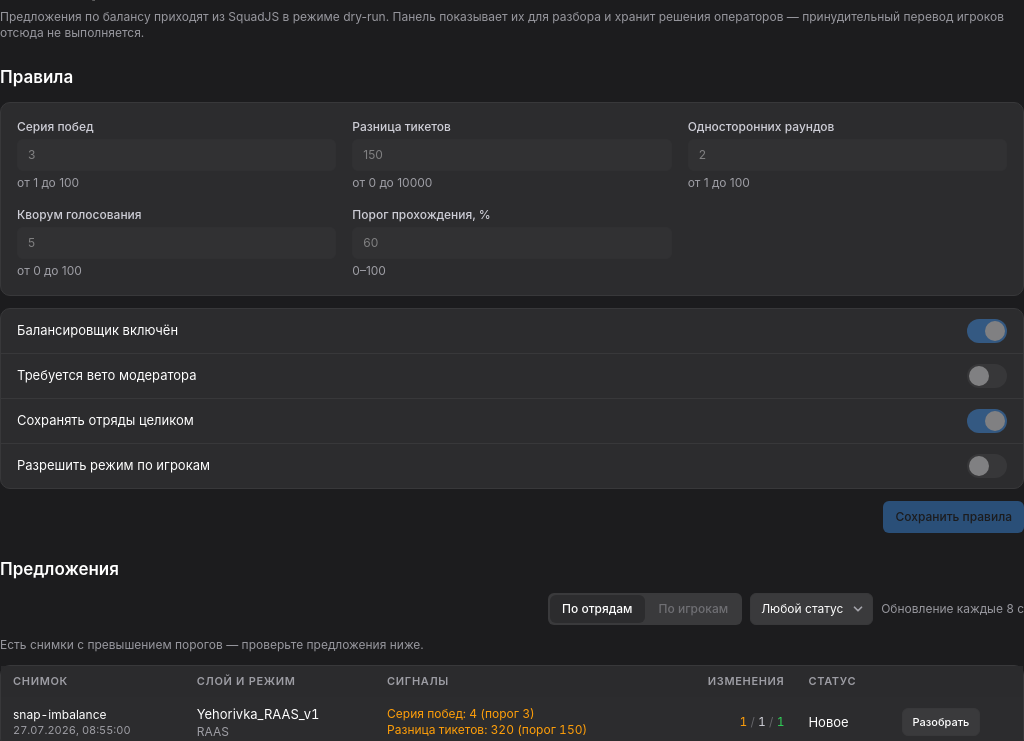
Test case: BalancerBrowser decisions › locks every write control for a viewer without balancer:edit
The image size is (1024, 741).
Expected: the text "snap-imbalance" is shown, [13, 707, 106, 722]
Expected: the button "Сохранить правила" is disabled, [883, 500, 1023, 532]
Click the button "Разобрать": (941, 722) [902, 708, 980, 736]
(page scrolled)
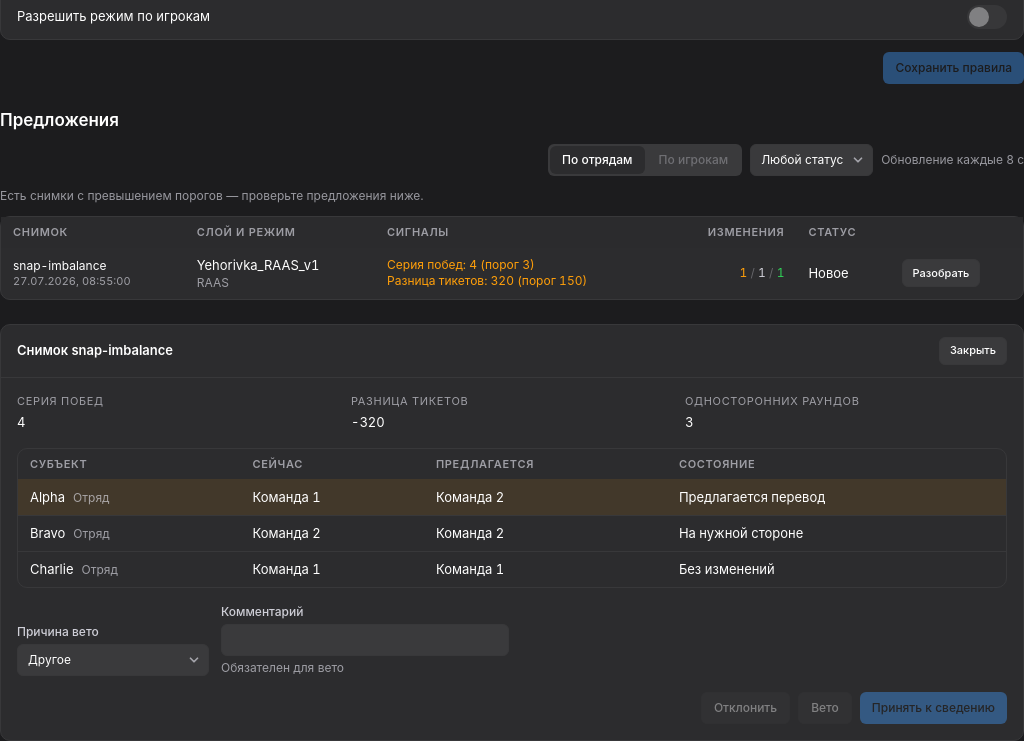
Expected: the text "Alpha" is shown, [30, 489, 65, 505]
Expected: the button "Принять к сведению" is disabled, [860, 692, 1007, 724]
Expected: the button "Вето" is disabled, [798, 692, 852, 724]
